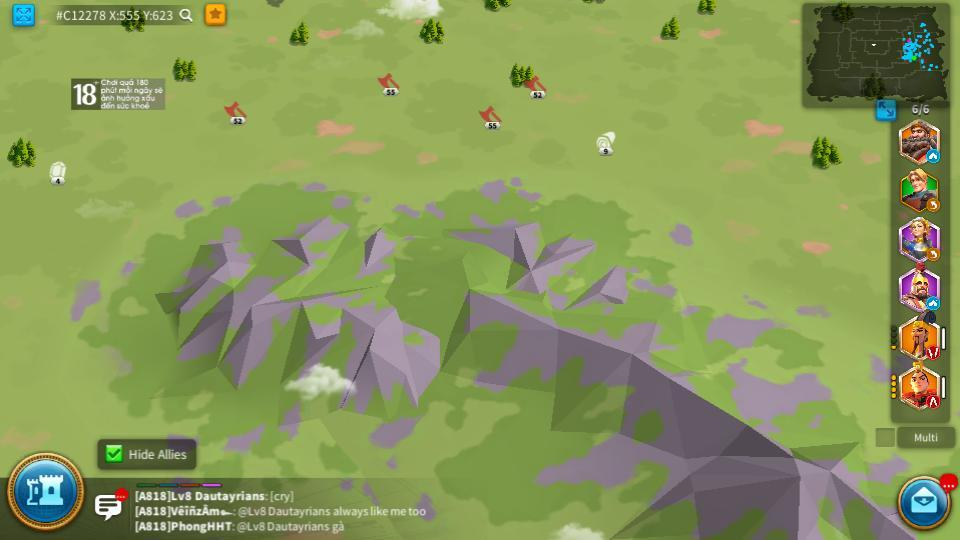gem-z-out: (46, 162, 69, 183)
march_attacking: (926, 395, 941, 407), (924, 348, 938, 359)
march_idle: (926, 151, 940, 162), (925, 297, 938, 307)
march_returning: (926, 248, 941, 261), (927, 201, 940, 212)
